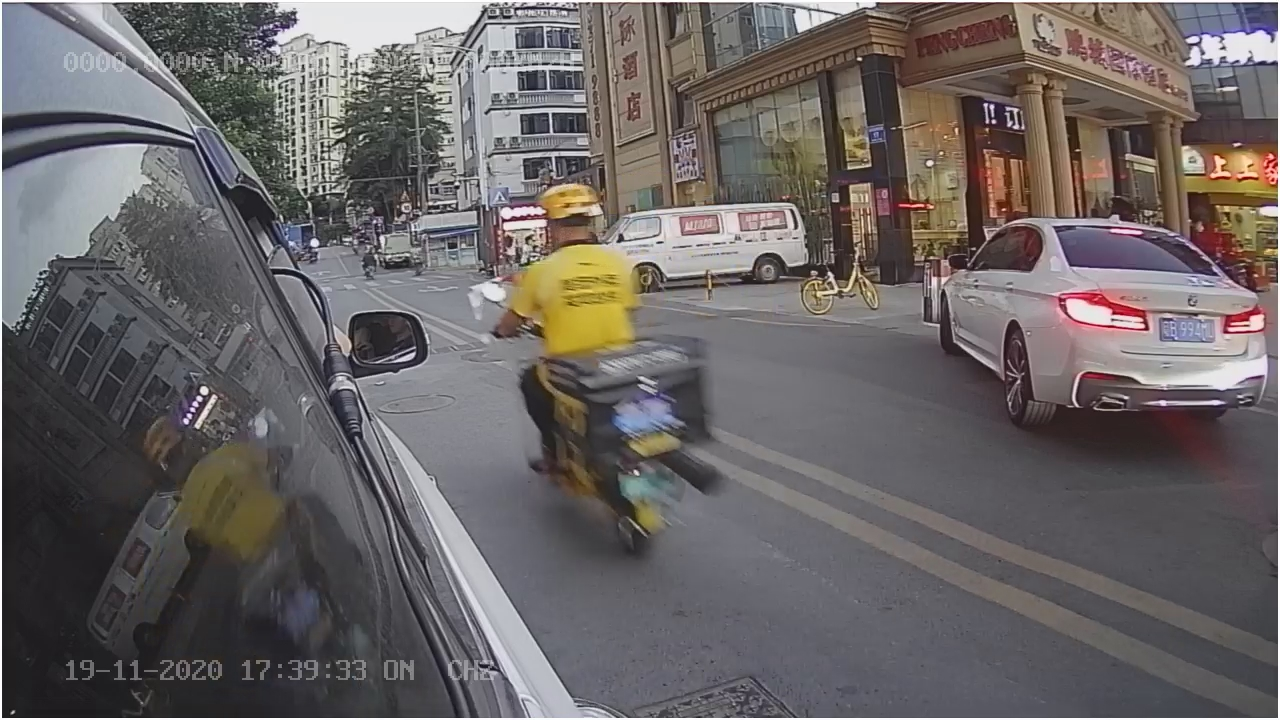person: (505, 189, 642, 358)
